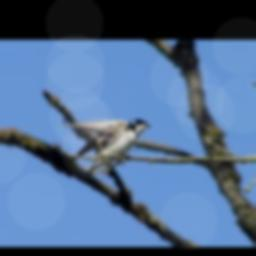Swallow: (62, 117, 152, 178)
